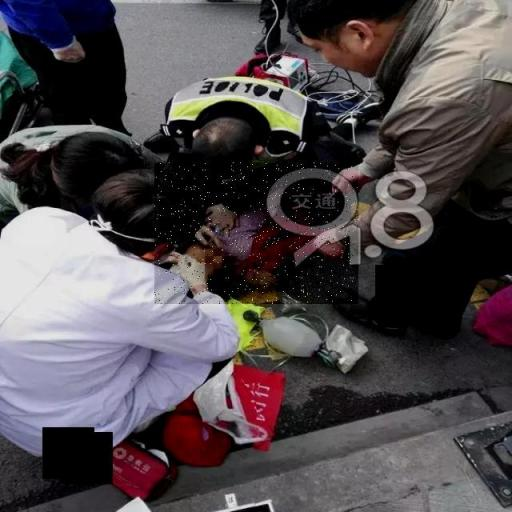Fall: (155, 162, 359, 304)
